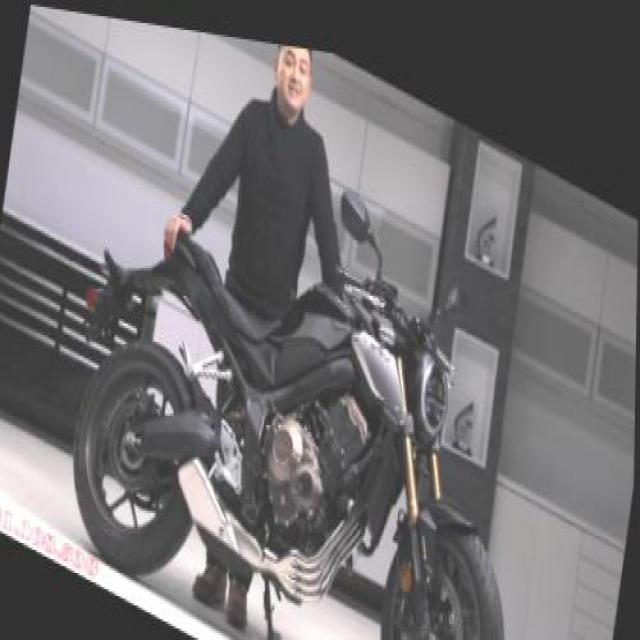CB650R: (58, 127, 549, 638)
